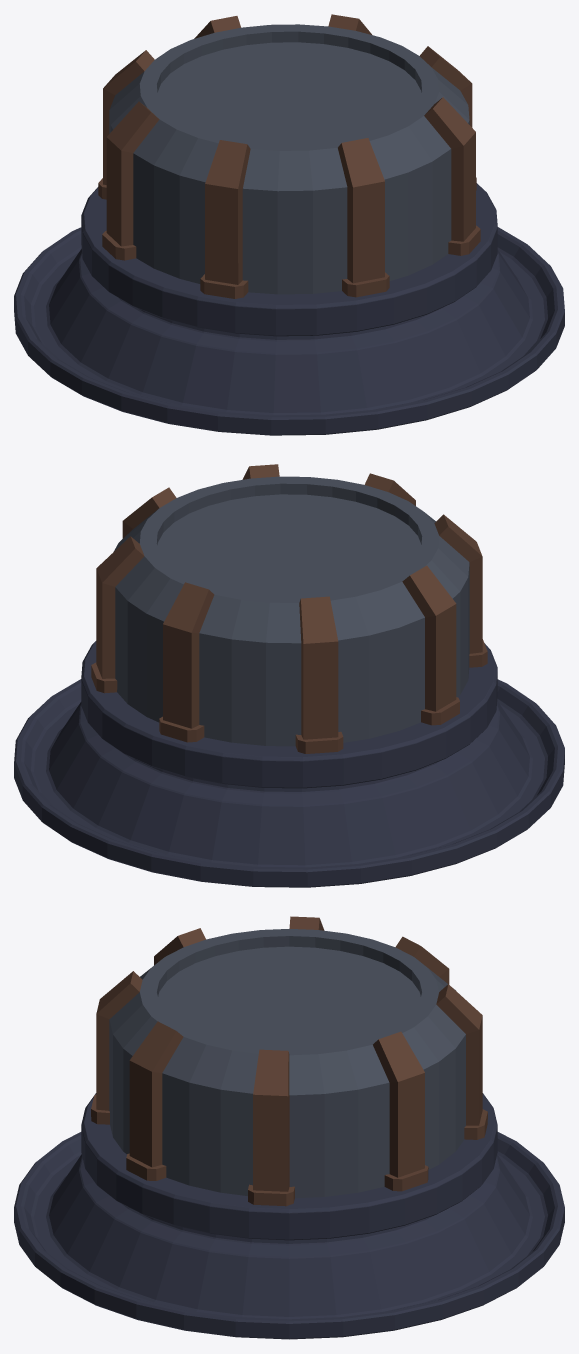
The model's file is 管道接口.fbx.
3 views of the same model, one above another, from view 1: azimuth 30°, elevation 25°; view 2: azimuth 150°, elevation 25°; view 3: azimuth 270°, elevation 25° (orthographic).
Parts seen in each view (by area): view 1: 管道接口; view 2: 管道接口; view 3: 管道接口.
Part boxes in pixels (x1,y1,x2,y2): 管道接口: [14, 14, 564, 435]; 管道接口: [14, 464, 564, 887]; 管道接口: [14, 916, 564, 1339].
Bounding box in the file's own units: 0.372 × 0.179 × 0.372.
